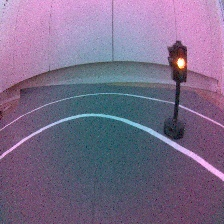amber: (159, 39, 195, 142)
